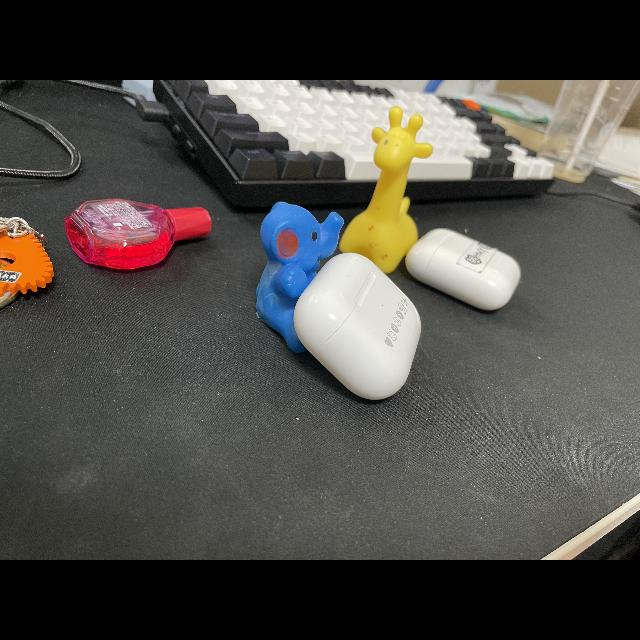airpod2: (405, 215, 535, 311)
airpod3: (292, 246, 428, 407)
